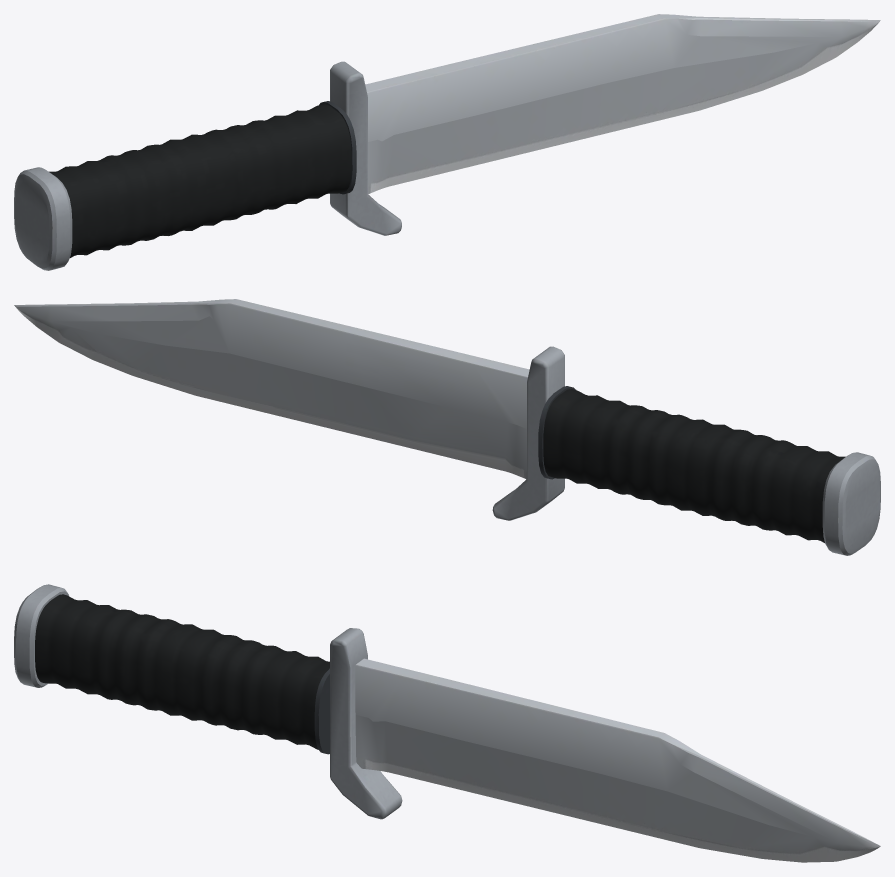
The model's file is classic_lod1.glb.
The picture shows the model from 3 angles, top to bottom: view 1: azimuth 30°, elevation 25°; view 2: azimuth 150°, elevation 25°; view 3: azimuth 330°, elevation 25°; orthographic projection.
Parts seen in each view (by area): view 1: body; view 2: body; view 3: body.
Boxes of the visible parts, left/top/right/bottom form: body: left=14, top=14, right=880, bottom=270; body: left=14, top=299, right=880, bottom=555; body: left=14, top=584, right=880, bottom=862.
Size of the model in its own units: 0.325 by 0.0623 by 0.0271.
5 materials, 5 textured.
